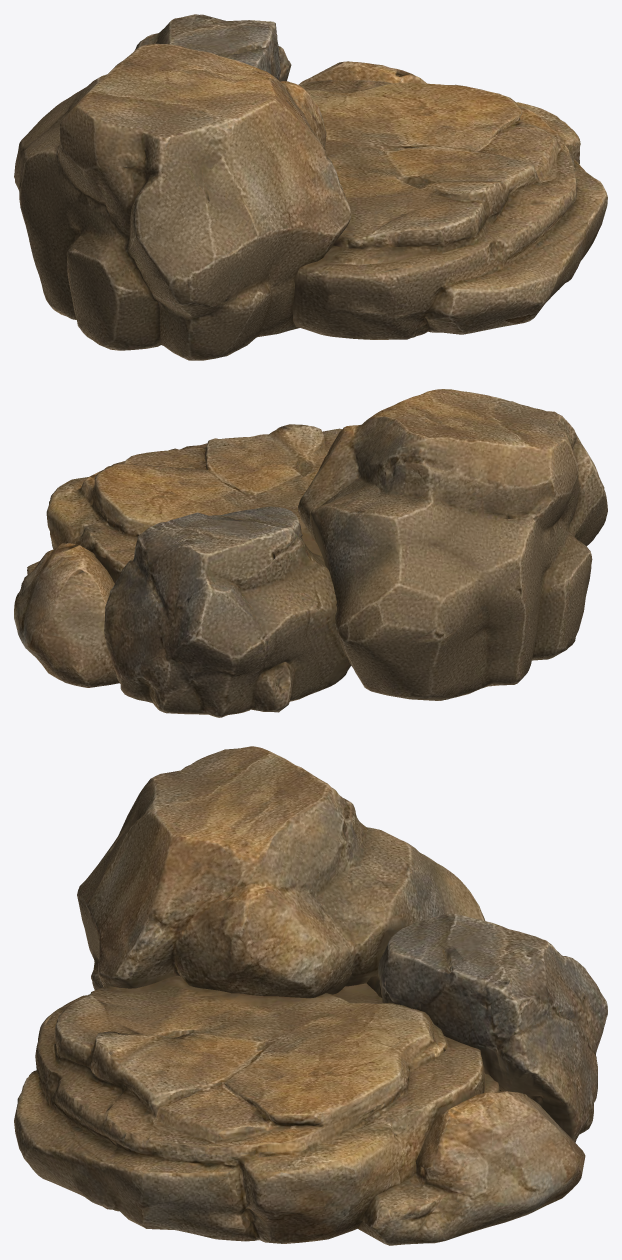
The model's file is desert_rock_cluster_01.glb.
The picture shows the model from 3 angles, top to bottom: view 1: azimuth 30°, elevation 25°; view 2: azimuth 150°, elevation 25°; view 3: azimuth 270°, elevation 25°; orthographic projection. The views are drawn at different scales.
Parts seen in each view (by area): view 1: tripo_node_2cd76e57-8d87-4828-9fcb-0a5a393eff1d; view 2: tripo_node_2cd76e57-8d87-4828-9fcb-0a5a393eff1d; view 3: tripo_node_2cd76e57-8d87-4828-9fcb-0a5a393eff1d.
Part boxes in pixels (box(x1,y1,x2,y2)): tripo_node_2cd76e57-8d87-4828-9fcb-0a5a393eff1d: box(14, 14, 607, 360); tripo_node_2cd76e57-8d87-4828-9fcb-0a5a393eff1d: box(14, 389, 607, 717); tripo_node_2cd76e57-8d87-4828-9fcb-0a5a393eff1d: box(14, 746, 607, 1245).
Bounding box in the file's own units: 0.998 × 0.4473 × 0.9199.
1 material, 1 textured.
